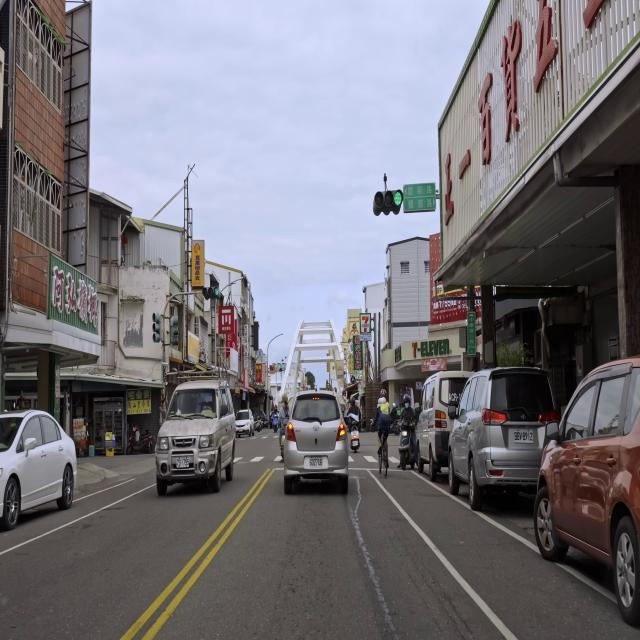green light: (372, 190, 403, 211), (201, 286, 220, 297)
